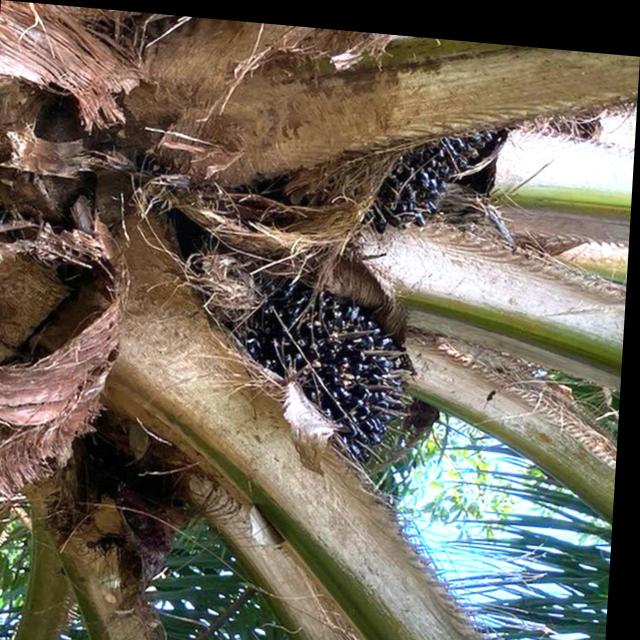unripe: (196, 268, 429, 471)
